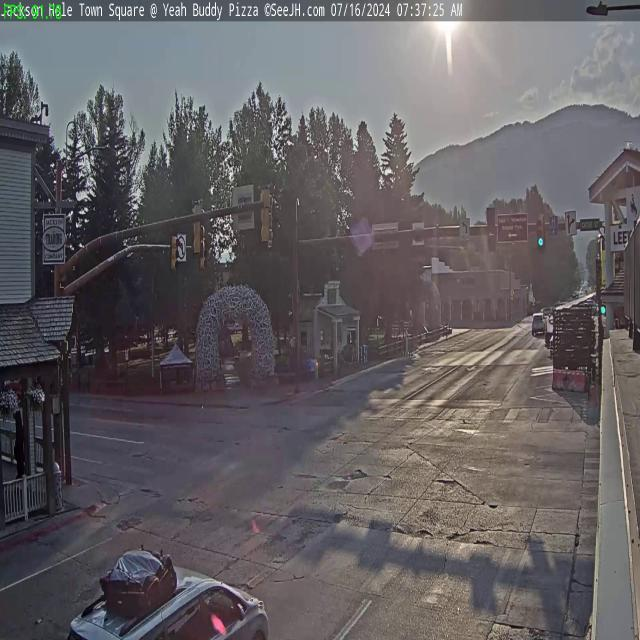suv: (62, 542, 273, 640), (532, 312, 546, 334)
traffic light: (260, 183, 272, 244), (191, 198, 203, 256), (486, 208, 496, 254), (170, 234, 179, 273), (536, 214, 546, 248)
